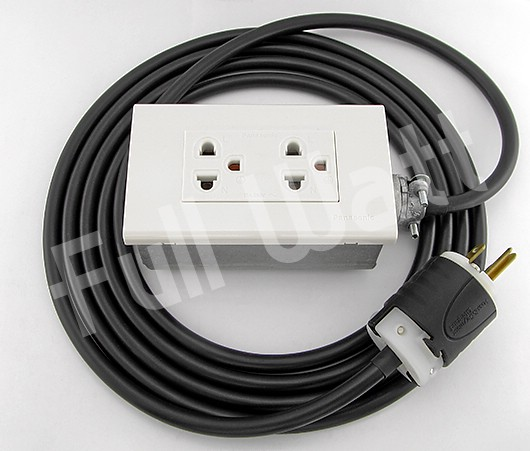Three_eye_plug: (122, 95, 404, 275)
